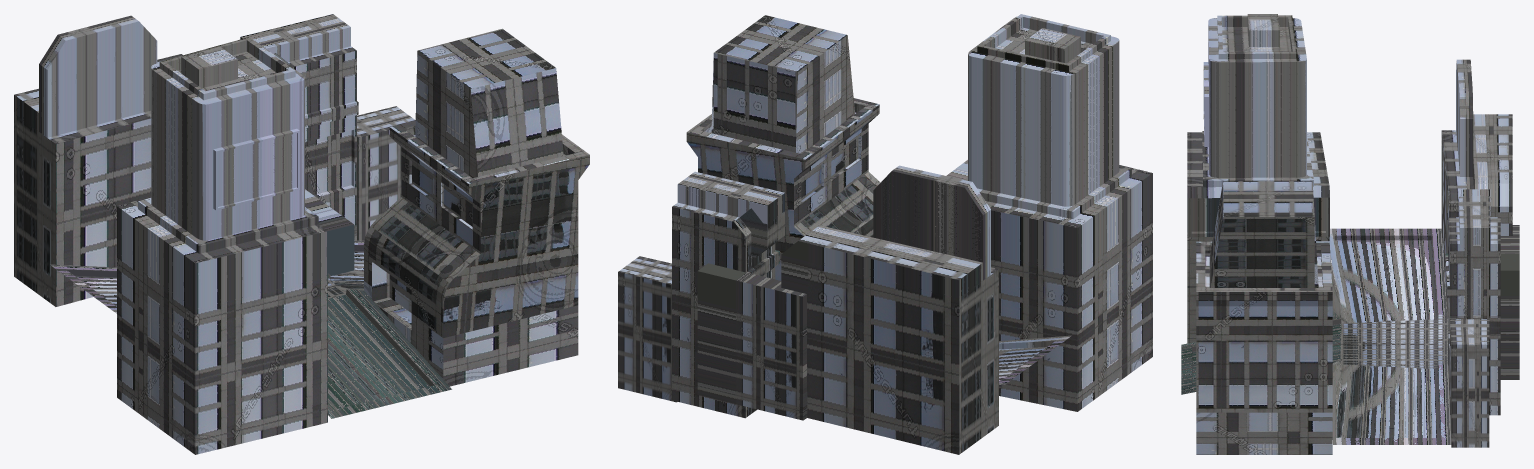
File: Street.glb
The picture shows the model from 3 angles, left to right: view 1: azimuth 30°, elevation 25°; view 2: azimuth 150°, elevation 25°; view 3: azimuth 270°, elevation 25°; orthographic projection. The views are drawn at different scales.
Parts seen in each view (by area): view 1: Plane; view 2: Plane; view 3: Plane.
Part boxes in pixels (box(x1,y1,x2,y2)): Plane: box(14, 14, 589, 454); Plane: box(618, 14, 1152, 454); Plane: box(1181, 14, 1519, 454).
Bounding box in the file's own units: 19.7 × 16.46 × 16.97.
1 material, 1 textured.
